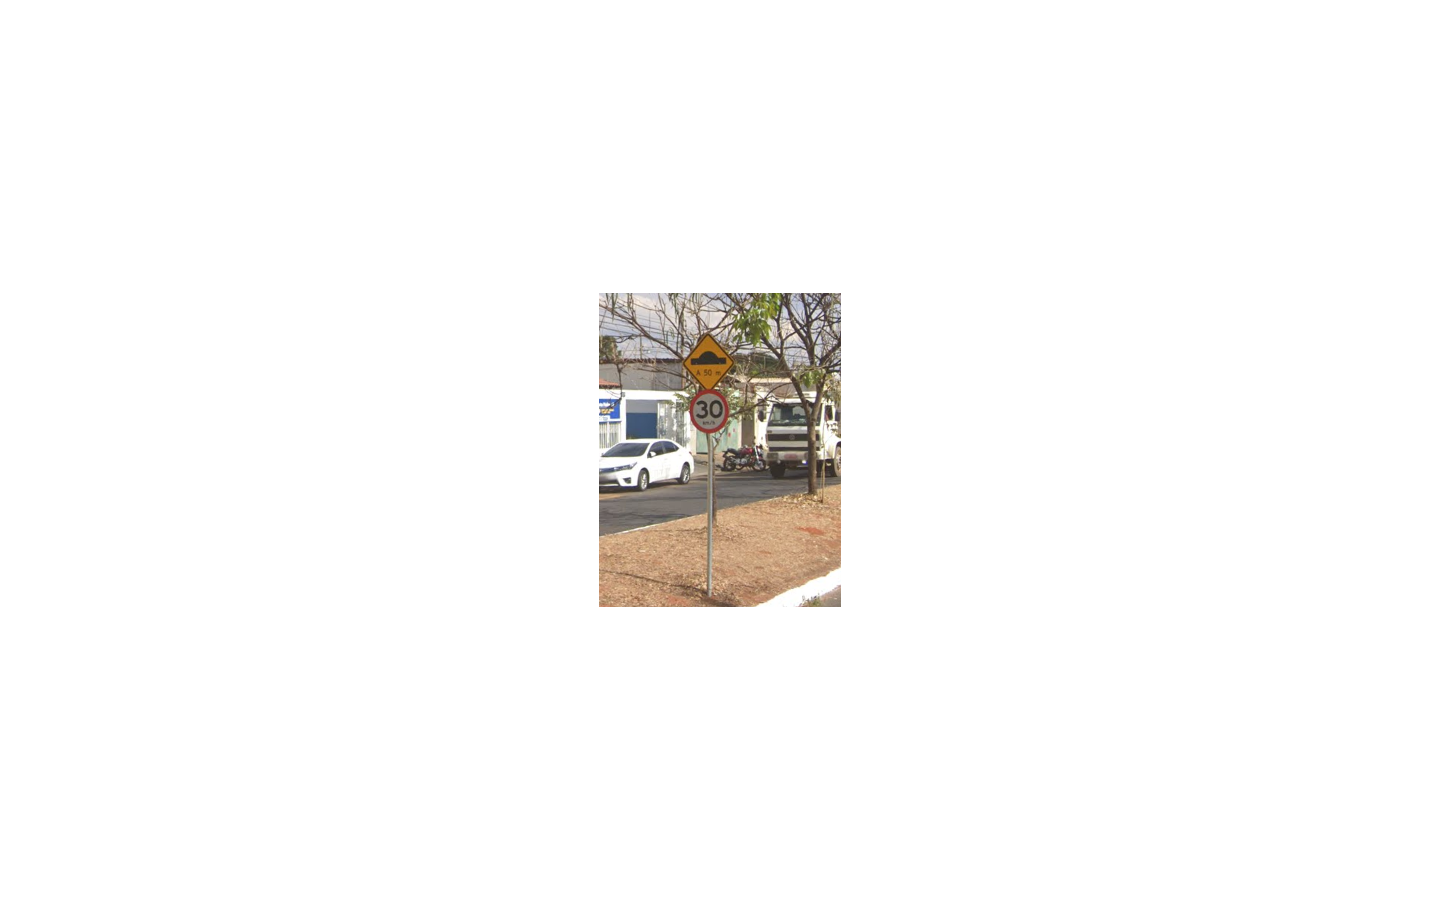l50m: (682, 332, 734, 390)
